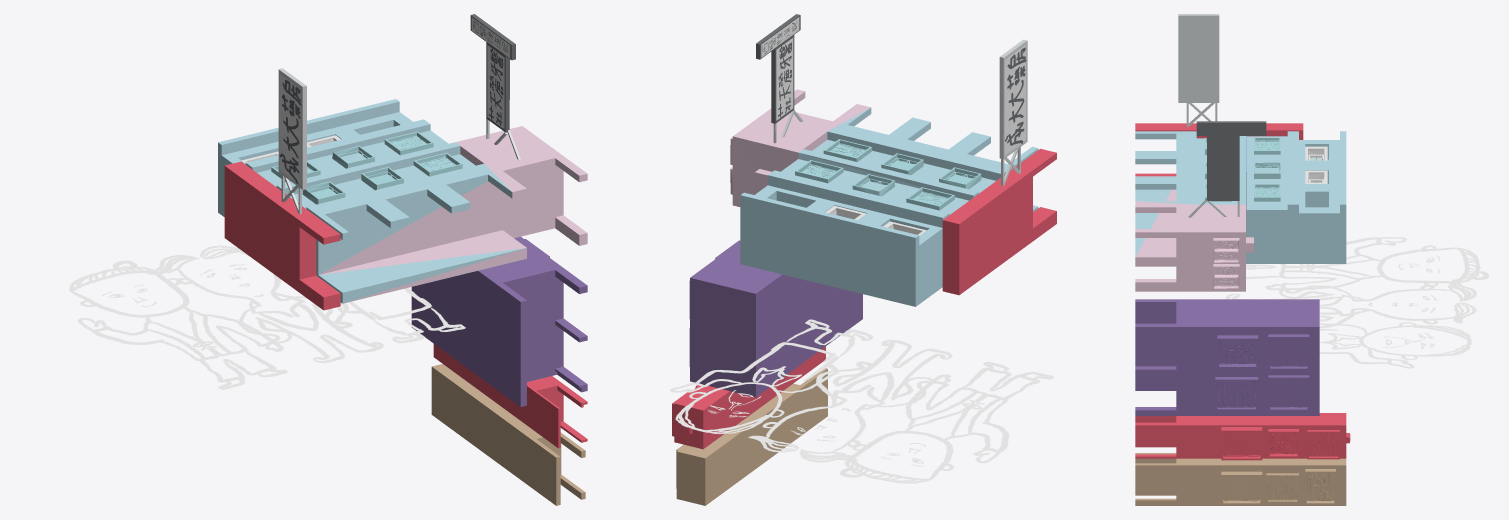
The model's file is asset9.glb.
The picture shows the model from 3 angles, left to right: view 1: azimuth 30°, elevation 25°; view 2: azimuth 150°, elevation 25°; view 3: azimuth 270°, elevation 25°; orthographic projection. The views are drawn at different scales.
Parts seen in each view (by area): view 1: obj_0, IMG_9020; view 2: obj_0, IMG_9020; view 3: obj_0, IMG_9020.
Boxes of the visible parts, x1,y1,x2,y2 form: obj_0: [218, 14, 587, 505]; IMG_9020: [69, 245, 465, 389]; obj_0: [672, 14, 1056, 505]; IMG_9020: [670, 319, 1054, 483]; obj_0: [1135, 14, 1350, 505]; IMG_9020: [1225, 237, 1488, 368].
Size of the model in its own units: 177 by 208 by 176.
Materials: 11 (1 with a texture image).
